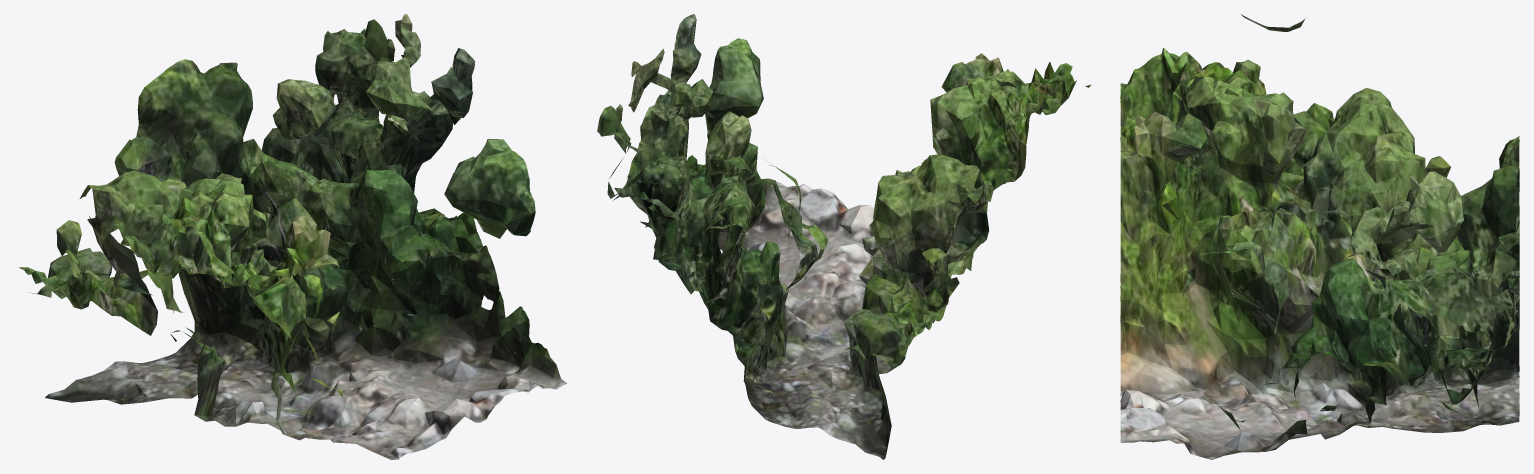
3 views of the same model, side by side, from view 1: azimuth 30°, elevation 25°; view 2: azimuth 150°, elevation 25°; view 3: azimuth 270°, elevation 25° (orthographic). The views are drawn at different scales.
Size of the model in its own units: 26.11 by 24.77 by 26.11.
8 materials, 8 textured.
